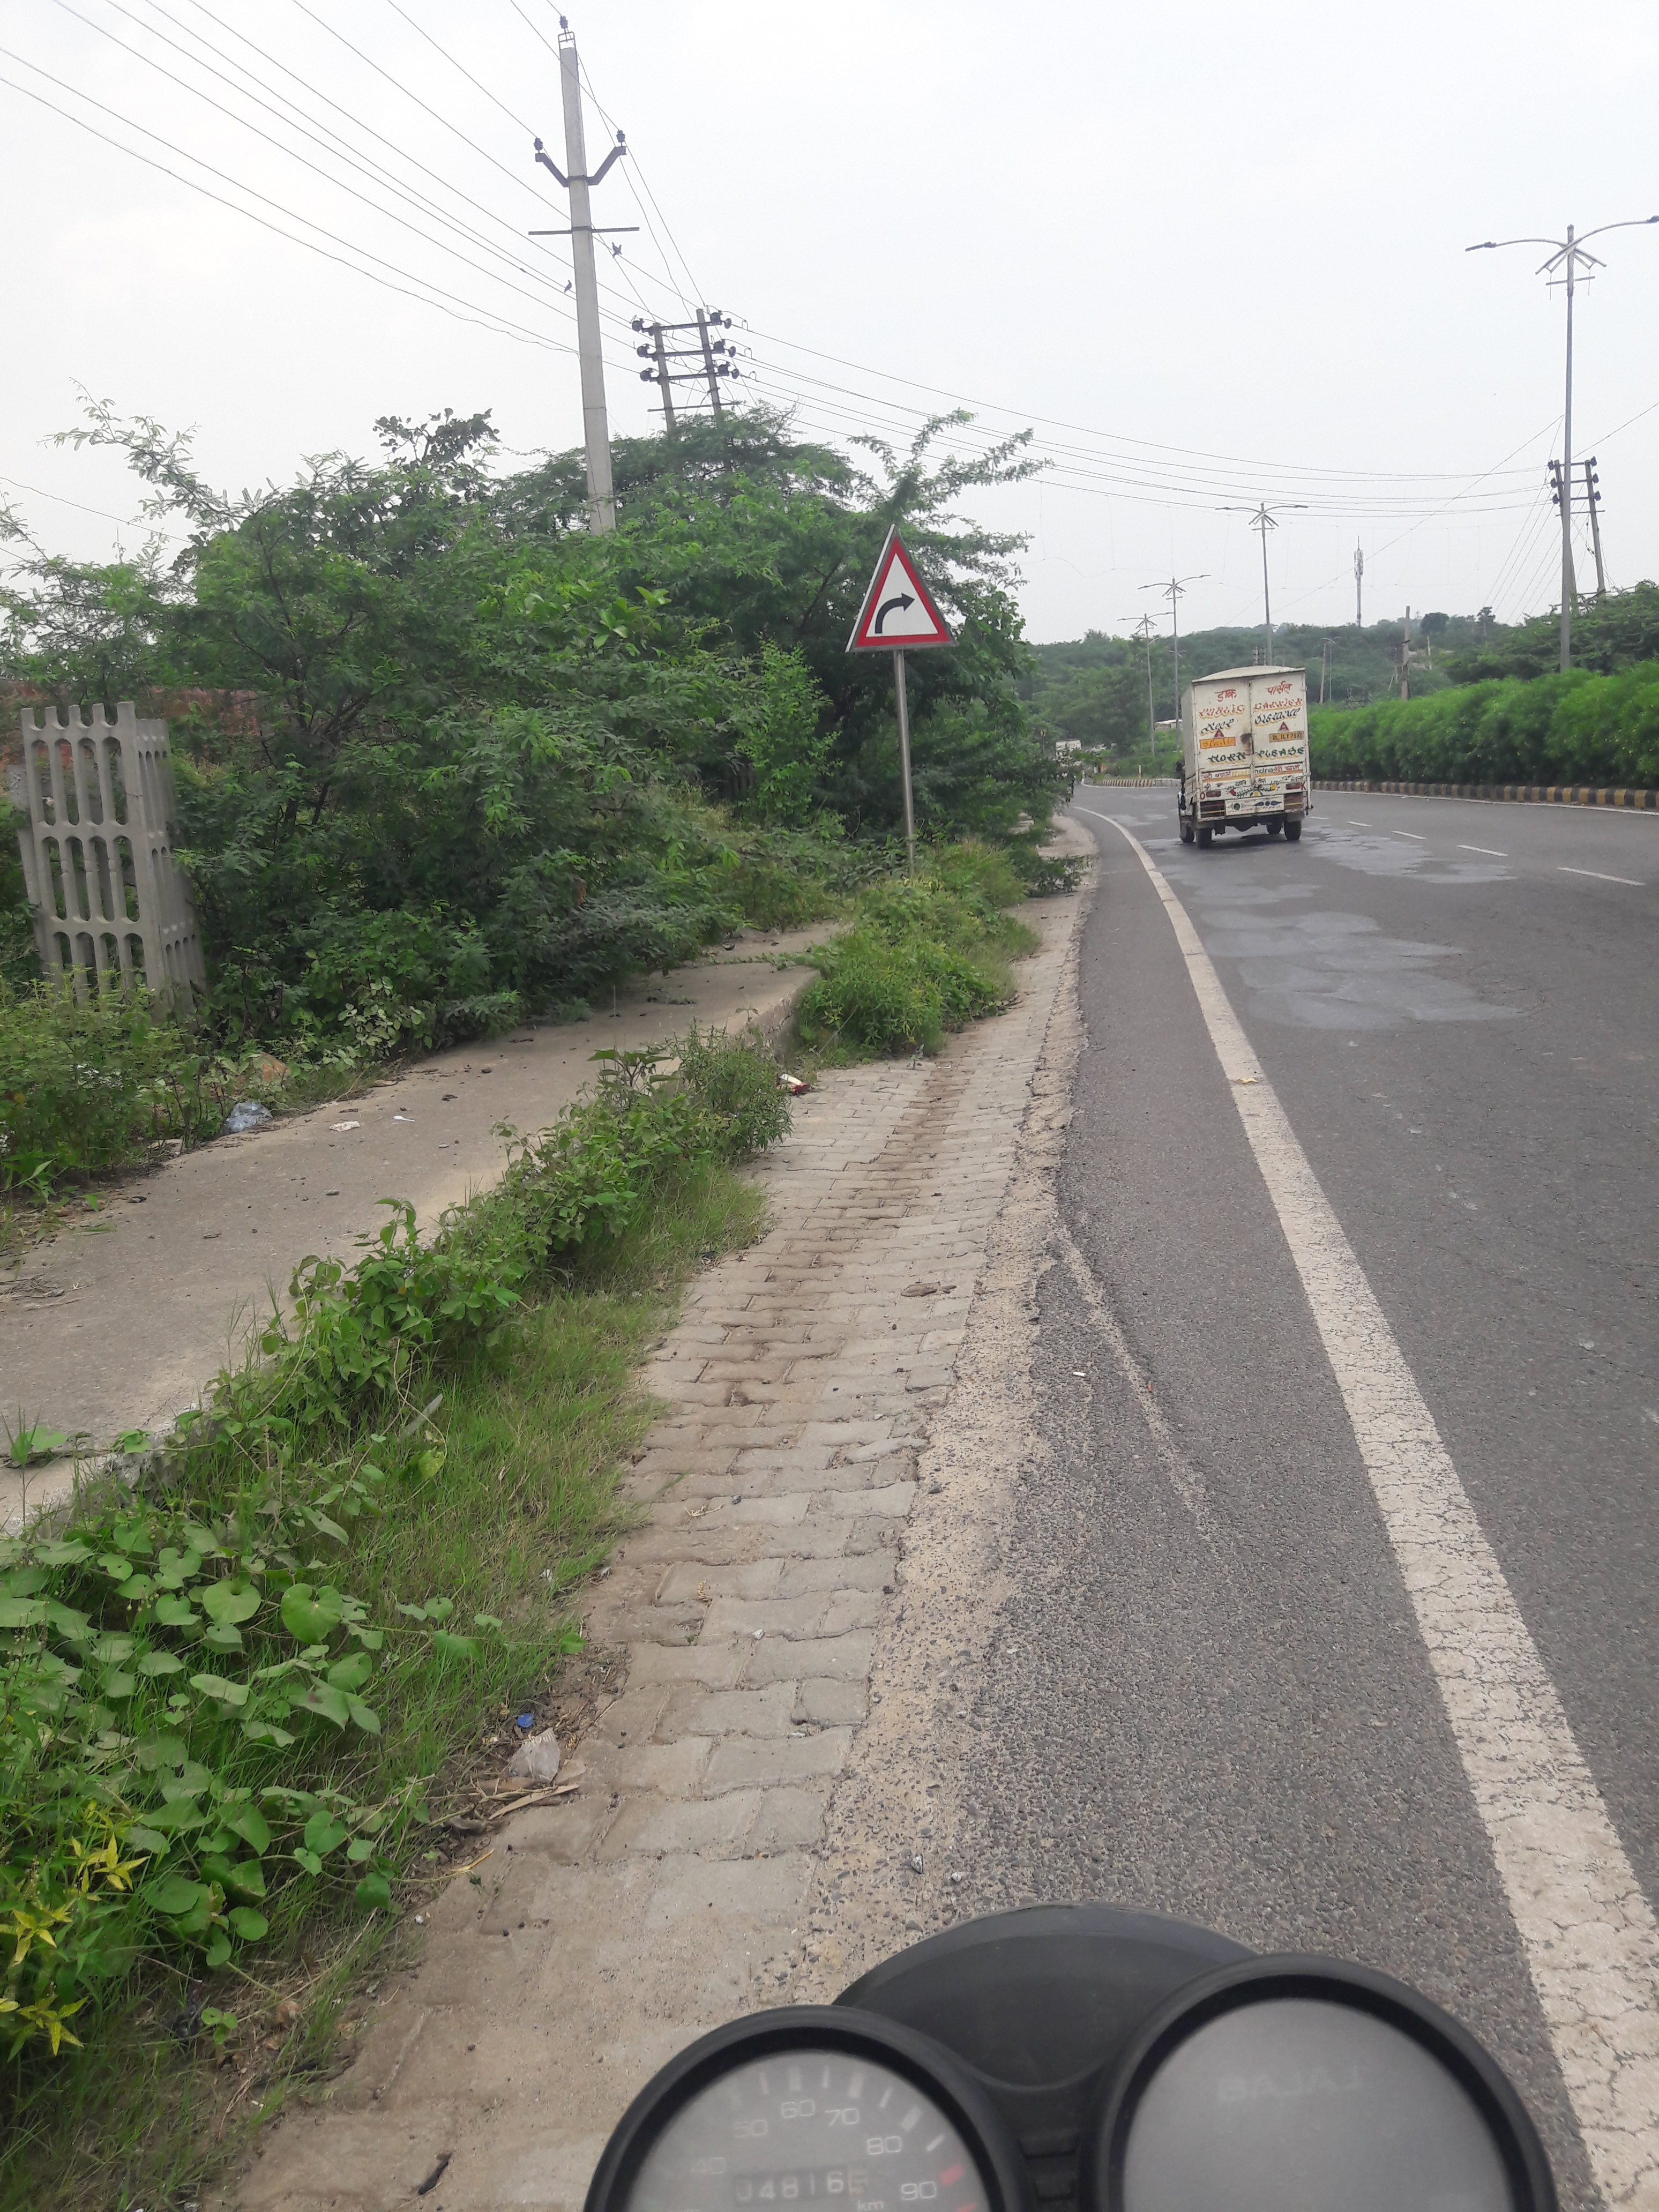traffic_sign: (842, 524, 960, 660)
